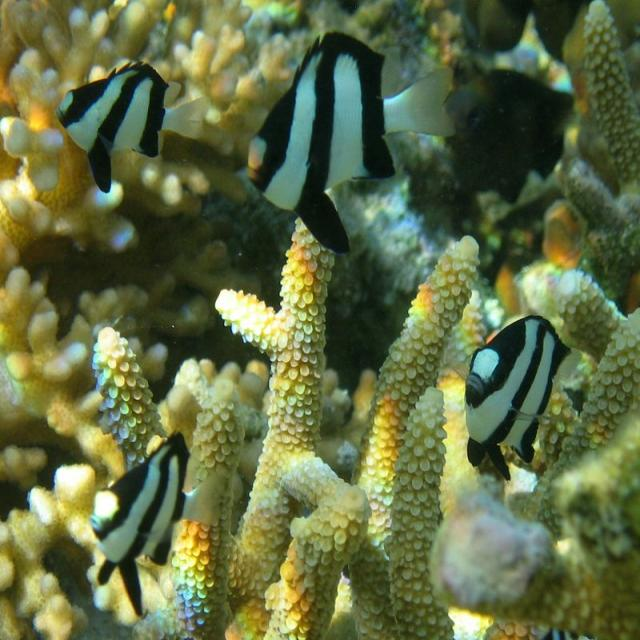Three_striped DasmselFish: (250, 31, 459, 254), (93, 429, 224, 613), (461, 310, 584, 492), (54, 57, 210, 199)
